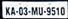character: (31, 6, 38, 15), (10, 6, 16, 16), (4, 6, 10, 15), (18, 6, 23, 16), (23, 6, 28, 15), (38, 6, 43, 15), (46, 6, 51, 15), (51, 6, 56, 15), (60, 6, 65, 15), (56, 6, 60, 15)
